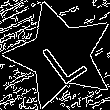L_NW: (32, 26, 89, 85)
